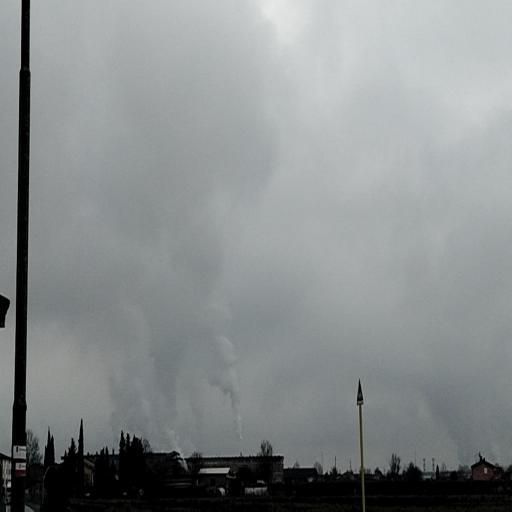leakage: (65, 204, 249, 474)
